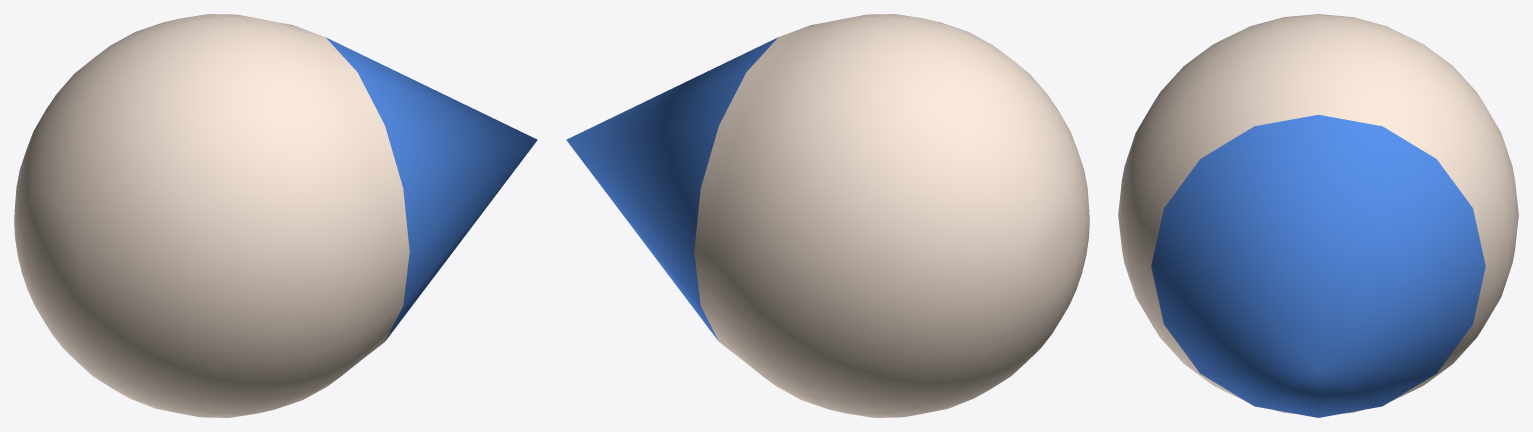
Rendered from mobs65righthand.fbx.
3 views of the same model, side by side, from view 1: azimuth 30°, elevation 25°; view 2: azimuth 150°, elevation 25°; view 3: azimuth 270°, elevation 25° (orthographic).
Parts seen in each view (by area): view 1: pSphere4; view 2: pSphere4; view 3: pSphere4.
Boxes of the visible parts, box(x1,y1,x2,y2) form: pSphere4: box(14, 14, 537, 417); pSphere4: box(566, 14, 1089, 417); pSphere4: box(1118, 14, 1518, 417).
Size of the model in its own units: 1.5 by 1.05 by 1.05.
Materials: 1 (1 with a texture image).
